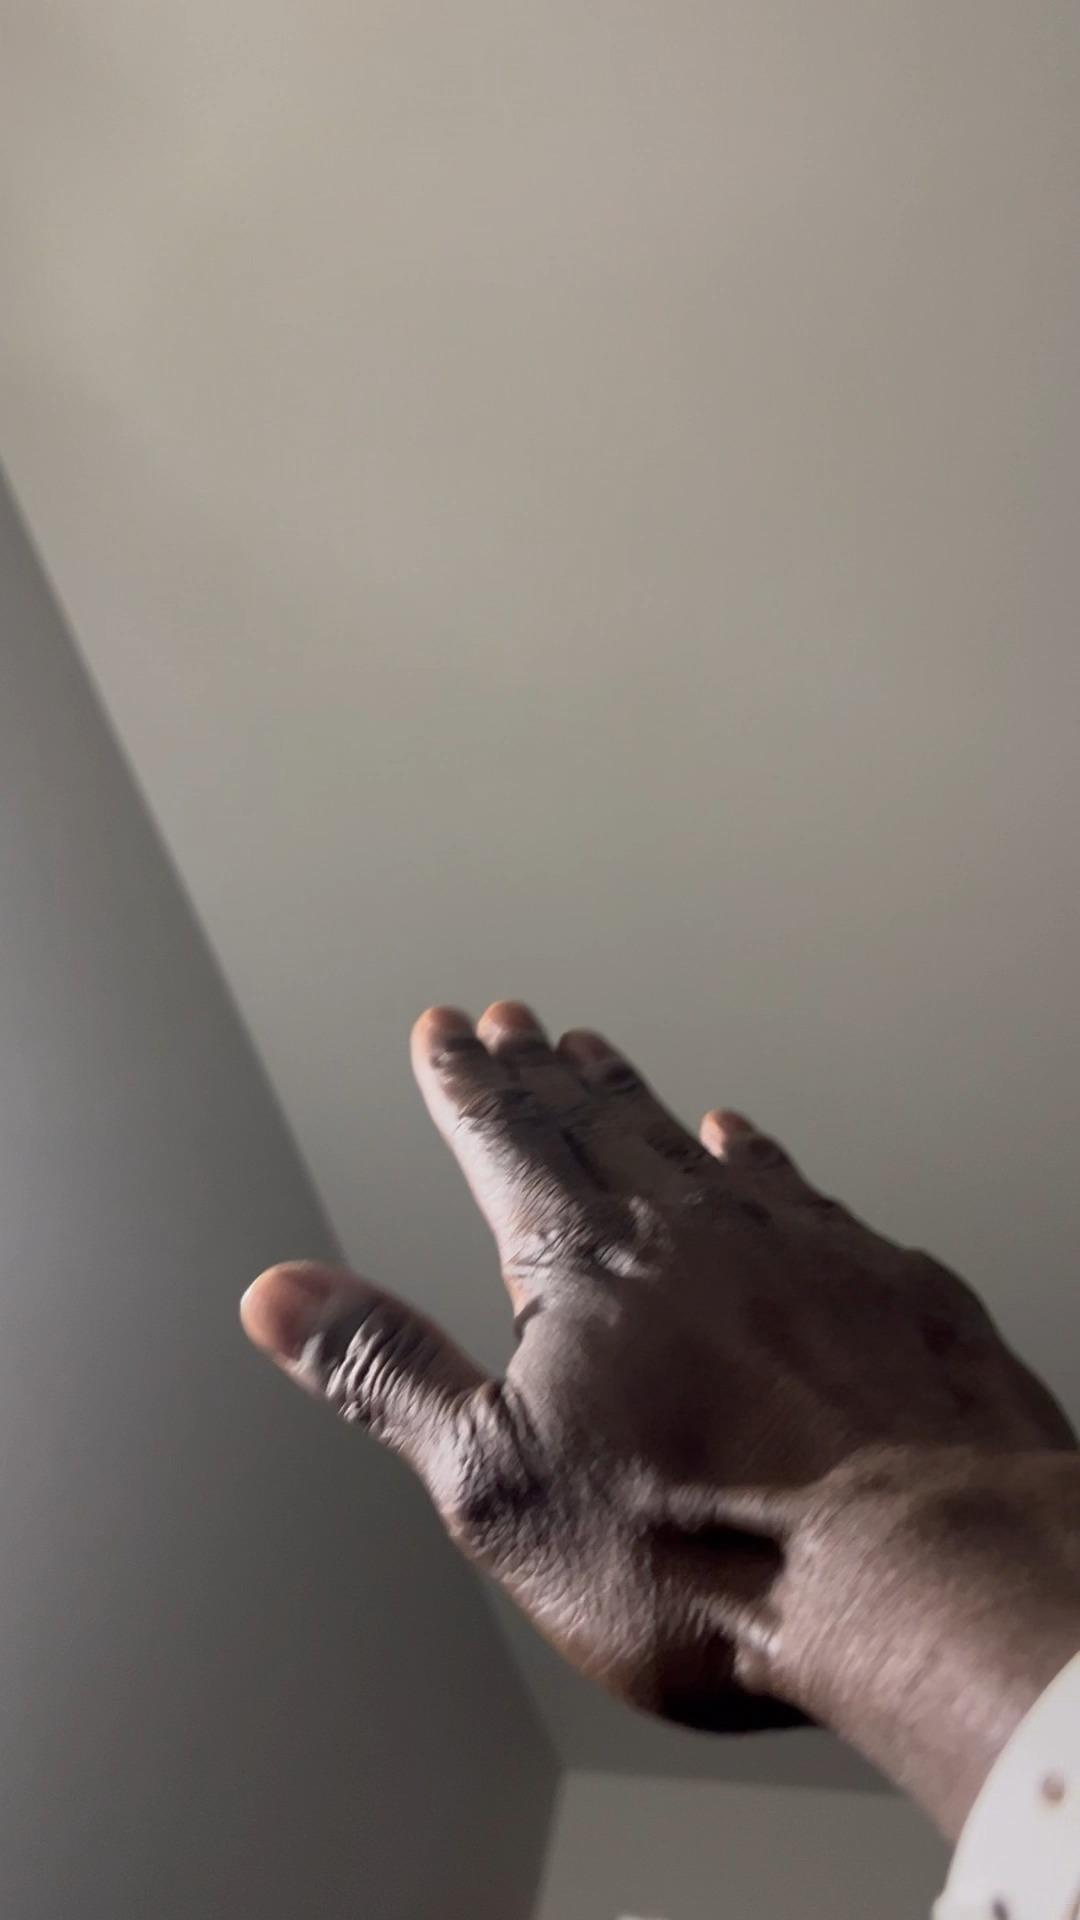Paper: (227, 997, 1080, 1747)
